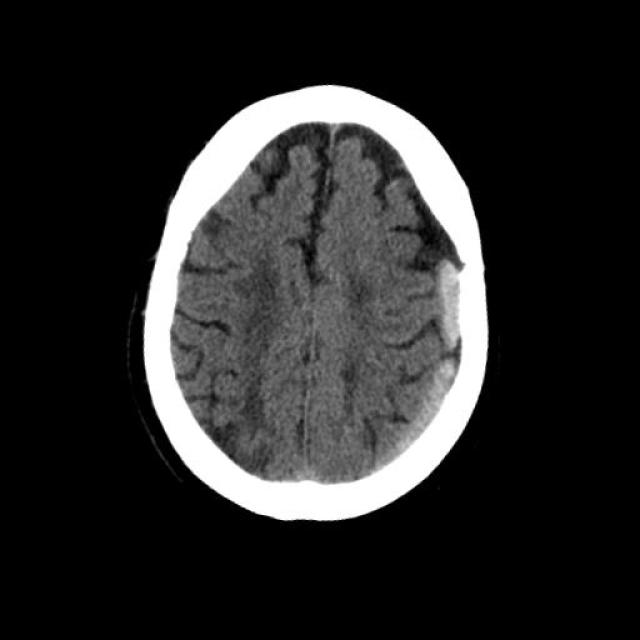Subdural: (378, 340, 482, 480)
